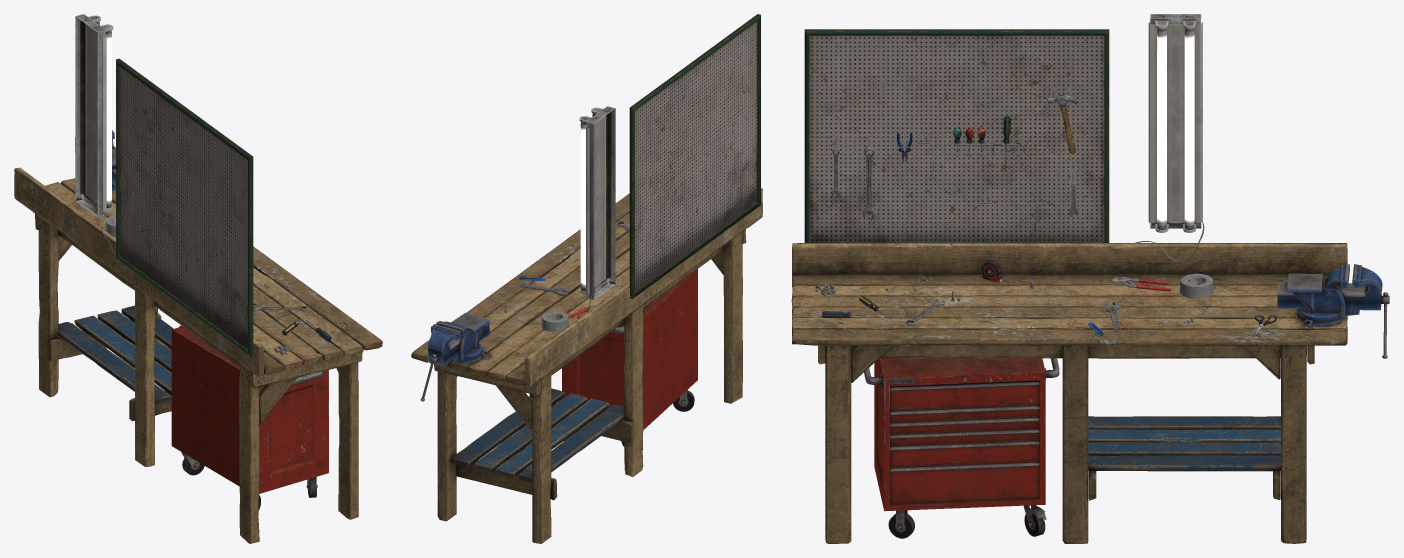
3 renders of one model, left to right at view 1: azimuth 30°, elevation 25°; view 2: azimuth 150°, elevation 25°; view 3: azimuth 270°, elevation 25°, orthographic. The views are drawn at different scales.
Visible parts, largest first — view 1: Pegboard_Sheet_low, Tool_Cabinet_Body_low, Workbench_Group_1_low, Workbench_Group_5_low, Workbench_Group_2_low, Pegboard_Frame_low, Light_Fixture_Base_low, Light_Fixture_Plate_low, Workbench_Group_3_low, Workbench_Group_4_low, Light_Fixture_Bulbs_low; view 2: Pegboard_Sheet_low, Workbench_Group_1_low, Workbench_Group_5_low, Tool_Cabinet_Body_low, Workbench_Group_2_low, Pegboard_Frame_low, Workbench_Group_3_low, Light_Fixture_Base_low, Light_Fixture_Plate_low, Vice_Base_low, Vice_Slide_low, Light_Fixture_Bulbs_low (+2 smaller); view 3: Pegboard_Sheet_low, Workbench_Group_1_low, Workbench_Group_2_low, Workbench_Group_5_low, Tool_Cabinet_Drawers_low, Tool_Cabinet_Body_low, Light_Fixture_Plate_low, Workbench_Group_3_low, Pegboard_Frame_low, Light_Fixture_Bulbs_low, Tool_Cabinet_Handles_low, Vice_Base_low (+3 smaller).
Boxes of the visible parts, x1,y1,x2,y2 form: Pegboard_Sheet_low: (119, 66, 247, 349); Tool_Cabinet_Body_low: (171, 326, 328, 493); Workbench_Group_1_low: (14, 167, 382, 395); Workbench_Group_5_low: (38, 217, 358, 543); Workbench_Group_2_low: (58, 178, 363, 403); Pegboard_Frame_low: (116, 58, 253, 356); Light_Fixture_Base_low: (75, 16, 105, 216); Light_Fixture_Plate_low: (85, 24, 106, 211); Workbench_Group_3_low: (47, 230, 296, 425); Workbench_Group_4_low: (35, 214, 362, 387); Light_Fixture_Bulbs_low: (96, 21, 111, 207); Pegboard_Sheet_low: (635, 21, 757, 291); Workbench_Group_1_low: (411, 188, 762, 477); Workbench_Group_5_low: (437, 231, 742, 543); Tool_Cabinet_Body_low: (562, 269, 697, 429); Workbench_Group_2_low: (434, 212, 629, 482); Pegboard_Frame_low: (629, 14, 760, 298); Workbench_Group_3_low: (456, 246, 723, 500); Light_Fixture_Base_low: (587, 108, 615, 299); Light_Fixture_Plate_low: (586, 115, 605, 294); Vice_Base_low: (436, 313, 489, 363); Vice_Slide_low: (428, 320, 489, 365); Light_Fixture_Bulbs_low: (580, 113, 595, 291); Pegboard_Sheet_low: (809, 35, 1104, 242); Workbench_Group_1_low: (792, 243, 1347, 471); Workbench_Group_2_low: (791, 274, 1347, 455); Workbench_Group_5_low: (825, 345, 1306, 543); Tool_Cabinet_Drawers_low: (890, 380, 1039, 504); Tool_Cabinet_Body_low: (874, 358, 1045, 511); Light_Fixture_Plate_low: (1148, 22, 1202, 222); Workbench_Group_3_low: (851, 344, 1306, 500); Pegboard_Frame_low: (804, 29, 1109, 242); Light_Fixture_Bulbs_low: (1157, 28, 1194, 229); Tool_Cabinet_Handles_low: (864, 358, 1059, 471); Vice_Base_low: (1287, 264, 1359, 327).
Bounding box in the file's own units: 0.699 × 2.14 × 2.49.
Materials: 6 (6 with a texture image).
